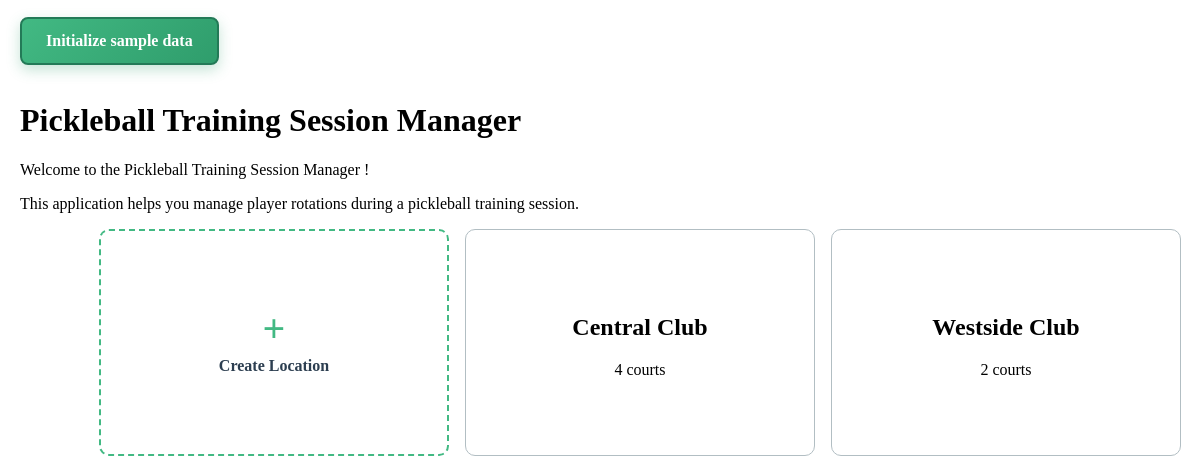
Scenario: HomeView › shows the session action only on the selected location
Click the button with class "location-card-select" showing "Westside Club": click(1006, 327) [932, 314, 1080, 341]
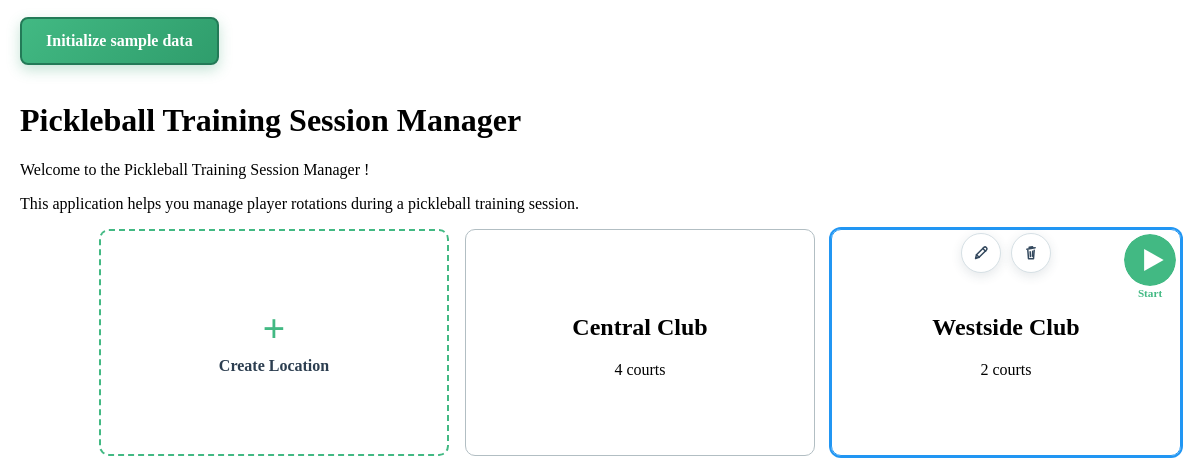
Expected: the button with class "location-card-session-action" is shown, [1124, 234, 1176, 299]
Click the button with class "location-card-select" showing "Central Club": click(640, 327) [572, 314, 708, 341]
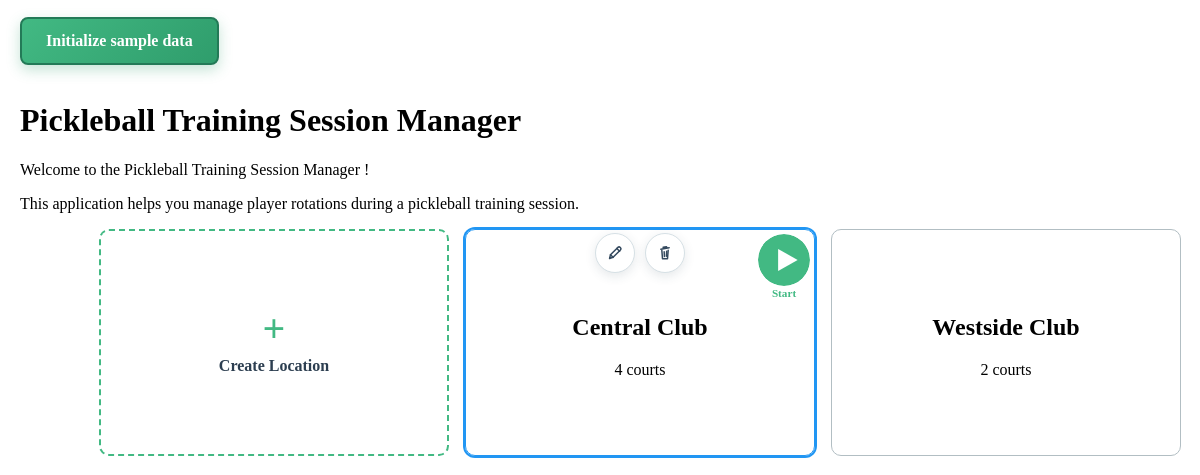
Expected: the button with class "location-card-session-action" is shown, [758, 234, 810, 299]
Click the heading "Pickleball Training Session Manager": click(271, 120) [20, 102, 521, 138]
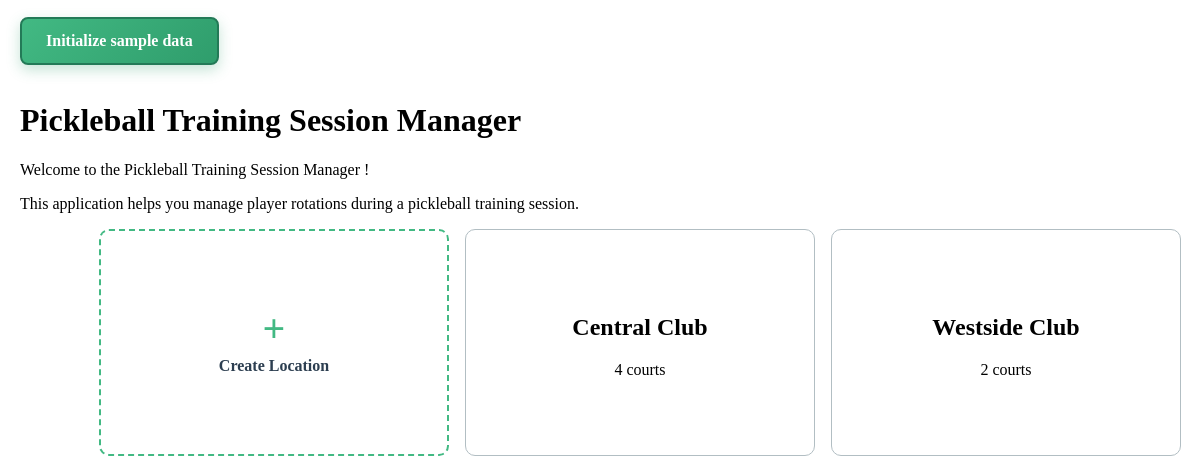
Expected: no buttons with class "location-card-session-action" are shown
